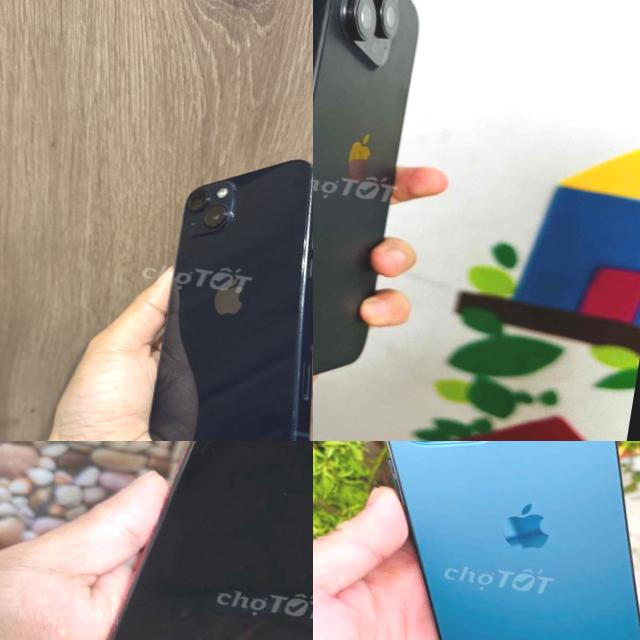gen_12_13: (313, 441, 640, 640), (134, 142, 313, 441)
gen_15: (313, 0, 471, 407)
gen_x_xs: (109, 441, 313, 640)
